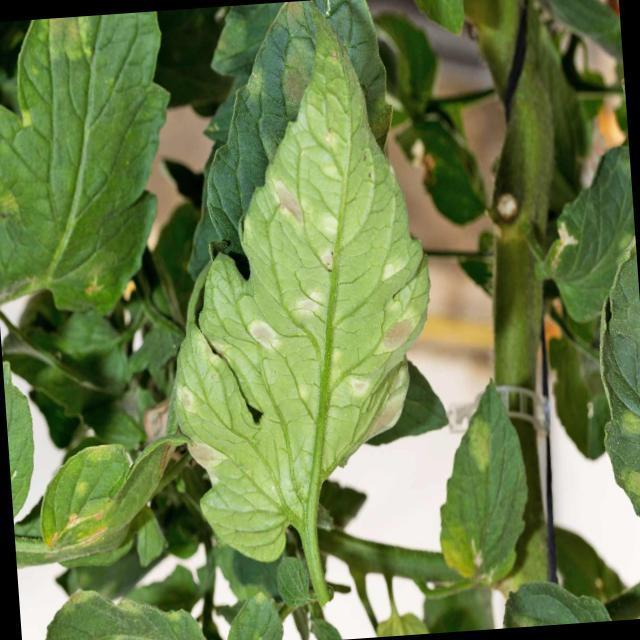Mosaic Virus: (164, 44, 438, 475), (435, 384, 543, 580)
